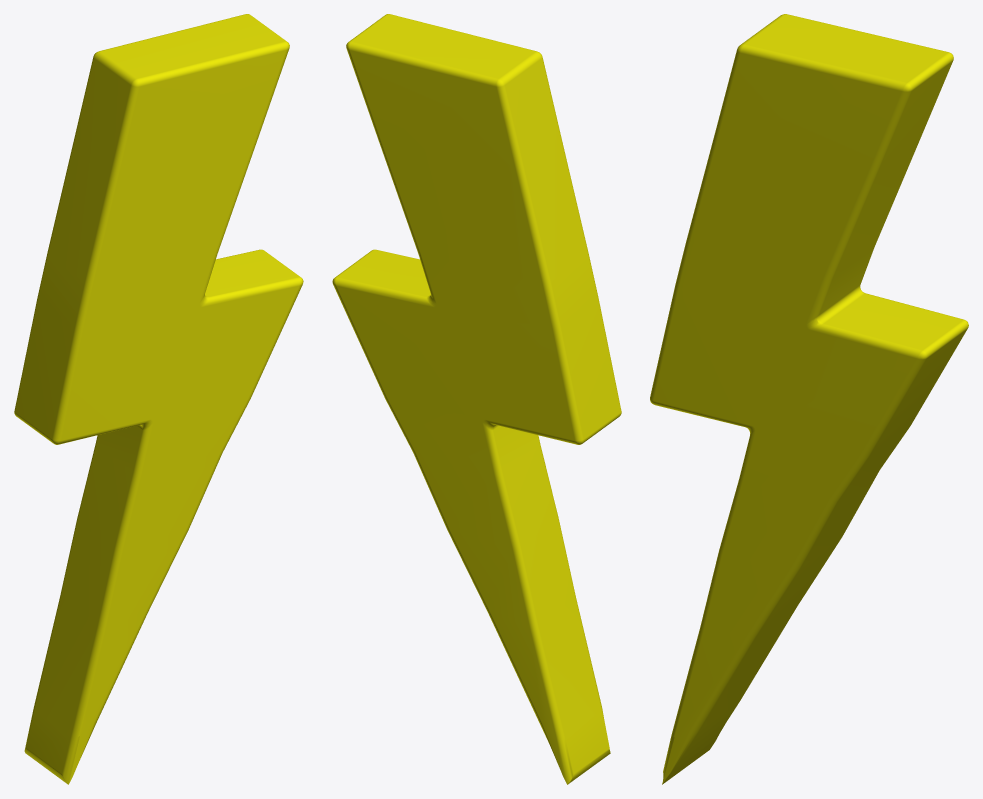
File: EnergySymbol.fbx
The picture shows the model from 3 angles, left to right: view 1: azimuth 30°, elevation 25°; view 2: azimuth 150°, elevation 25°; view 3: azimuth 330°, elevation 25°; orthographic projection. The views are drawn at different scales.
Parts seen in each view (by area): view 1: EnergySymbol; view 2: EnergySymbol; view 3: EnergySymbol.
Boxes of the visible parts, x1,y1,x2,y2 form: EnergySymbol: (14,14,303,784); EnergySymbol: (332,14,621,784); EnergySymbol: (650,14,968,784).
Bounding box in the file's own units: 0.3912 × 1.03 × 0.117.
